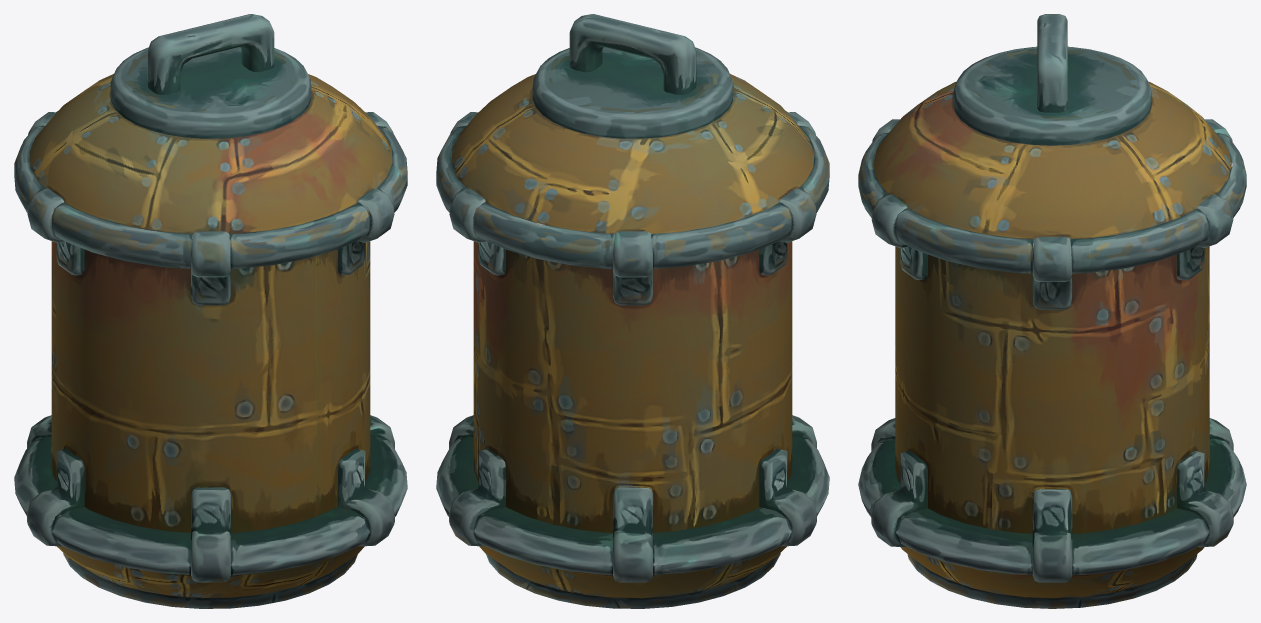
File: steampunk_barrel.gltf
3 views of the same model, side by side, from view 1: azimuth 30°, elevation 25°; view 2: azimuth 150°, elevation 25°; view 3: azimuth 270°, elevation 25° (orthographic).
Parts seen in each view (by area): view 1: SteampunkBarrel; view 2: SteampunkBarrel; view 3: SteampunkBarrel.
Boxes of the visible parts, box(x1,y1,x2,y2) form: SteampunkBarrel: box(14, 14, 407, 608); SteampunkBarrel: box(436, 14, 829, 608); SteampunkBarrel: box(858, 14, 1246, 608).
Size of the model in its own units: 2.07 by 2.9 by 2.
1 material, 1 textured.
